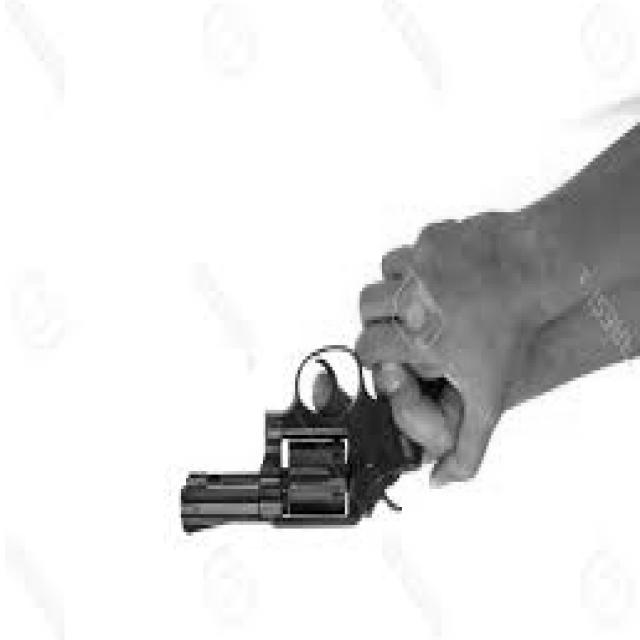gun: (167, 277, 469, 555)
